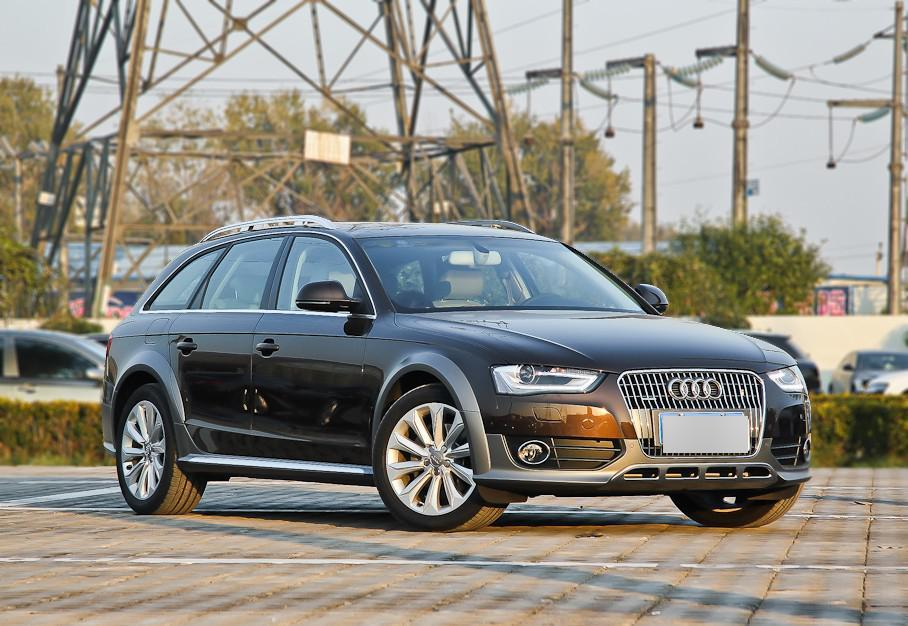Wagon: (100, 213, 815, 533)
